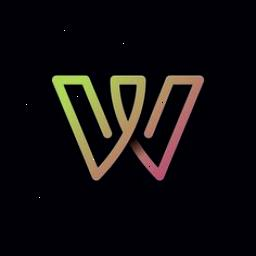w: (48, 70, 210, 186)
